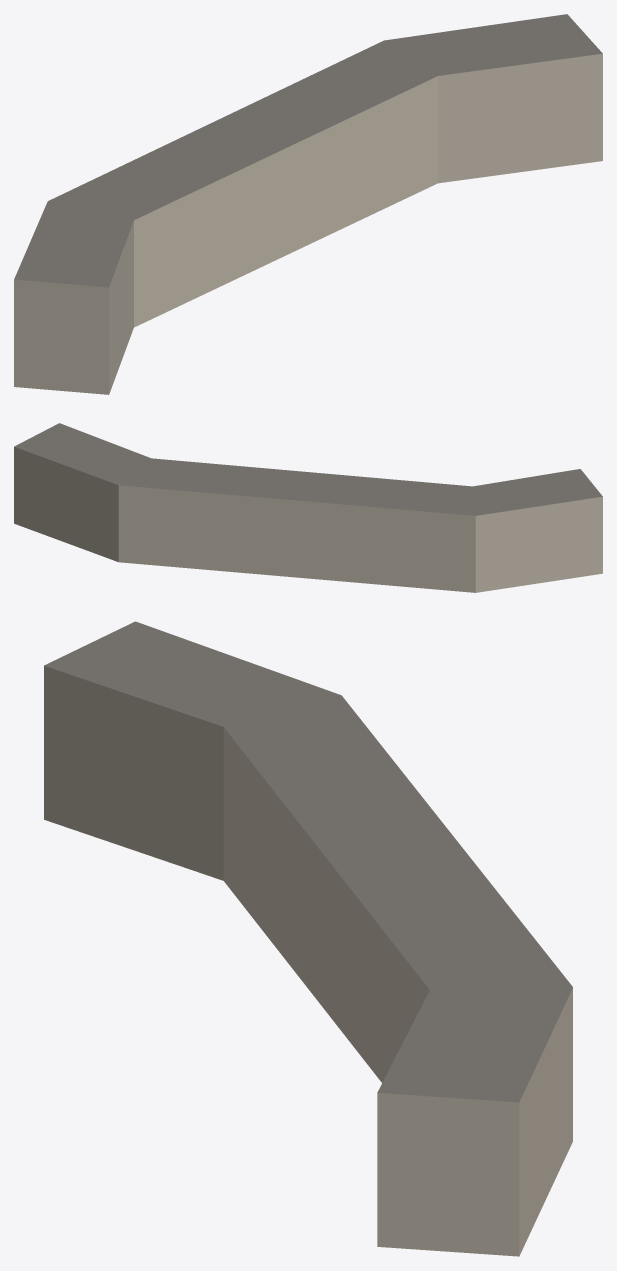
3 renders of one model, top to bottom at view 1: azimuth 30°, elevation 25°; view 2: azimuth 150°, elevation 25°; view 3: azimuth 270°, elevation 25°, orthographic. The views are drawn at different scales.
Parts seen in each view (by area): view 1: HP-w293414348; view 2: HP-w293414348; view 3: HP-w293414348.
Part boxes in pixels (left/top/right/bottom): HP-w293414348: left=14, top=14, right=602, bottom=394; HP-w293414348: left=14, top=423, right=602, bottom=592; HP-w293414348: left=44, top=621, right=572, bottom=1256.
Size of the model in its own units: 121 by 18 by 56.06.
